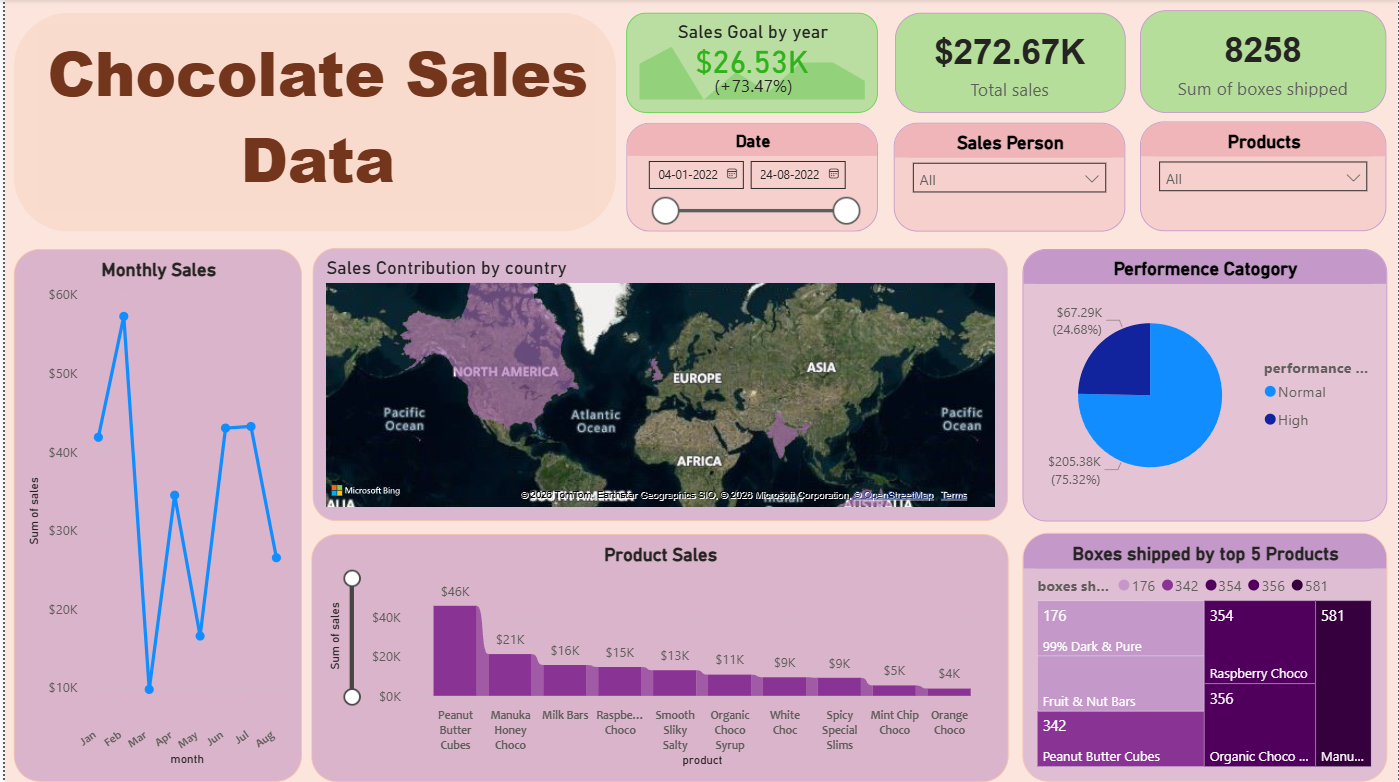

The page's visual inventory and layout, read from the dashboard file:
{"tool":"powerbi","page":{"name":"Page 1","canvas":[1280,720],"ordinal":0},"visuals":[{"type":"filledMap","title":"Sales Contribution  by country","fields":{"Category":["Sheet1.country"]},"box":[282.6,229.1,639.5,251.2],"z":0},{"type":"columnChart","title":"Product Sales ","fields":{"Category":["Sheet1.product"],"Y":["Sum(Sheet1.sales)"]},"box":[281.4,491.9,640.7,227.9],"z":1000},{"type":"lineChart","title":"Monthly Sales","fields":{"Y":["Sum(Sheet1.sales)"],"Category":["Sheet1.month"]},"box":[8.1,230.2,265.1,489.5],"z":2000},{"type":"treemap","title":"Boxes shipped by top 5 Products","fields":{"Values":["CountNonNull(Sheet1.product)"],"Group":["Sheet1.boxes shipped"],"Details":["Sheet1.product"]},"box":[934.9,490.7,334.9,229.1],"z":3000},{"type":"card","title":"Total Sales","fields":{"Values":["Sheet1.Total sales"]},"box":[817.4,12.8,211.6,91.9],"z":4000},{"type":"card","title":"Total Boxes Shipped","fields":{"Values":["Sum(Sheet1.boxes shipped)"]},"box":[1043,10.5,226.7,94.2],"z":5000},{"type":"slicer","title":"Sales Person","fields":{"Values":["Sheet1.sales person"]},"box":[816.3,114,212.8,100],"z":6000},{"type":"slicer","title":"Products","fields":{"Values":["Sheet1.product"]},"box":[1043,112.8,226.7,101.2],"z":7000},{"type":"pieChart","title":"Performence Catogory","fields":{"Category":["Sheet1.performance catogory"],"Y":["Sum(Sheet1.sales)"]},"box":[934.9,230.2,334.9,250],"z":8000},{"type":"kpi","title":" Sales Goal by year","fields":{"Goal":["Sheet1.Sales Goal"],"Indicator":["Sheet1.Total sales"],"TrendLine":["Sheet1.month"]},"box":[570.9,12.8,231.4,91.9],"z":9000},{"type":"slicer","title":"Date","fields":{"Values":["Sheet1.date"]},"box":[570.9,114,231.4,100],"z":10000},{"type":"shape","box":[8.1,12.8,553.5,201.2],"z":11000},{"type":"textbox","box":[31.4,23.3,512.8,172.1],"z":12000}]}

Visuals, with their boxes in screenshot pixels (x1, y1, x2, y2), scaled from the page's 1280x720 canvas onto the 1399x782 screenshot:
"Sales Contribution  by country" filledMap: 309, 249, 1008, 522
"Product Sales " columnChart: 308, 534, 1008, 781
"Monthly Sales" lineChart: 9, 250, 299, 781
"Boxes shipped by top 5 Products" treemap: 1022, 533, 1388, 781
"Total Sales" card: 893, 14, 1125, 114
"Total Boxes Shipped" card: 1140, 11, 1388, 114
"Sales Person" slicer: 892, 124, 1125, 232
"Products" slicer: 1140, 123, 1388, 232
"Performence Catogory" pieChart: 1022, 250, 1388, 522
" Sales Goal by year" kpi: 624, 14, 877, 114
"Date" slicer: 624, 124, 877, 232
shape: 9, 14, 614, 232
textbox: 34, 25, 595, 212
